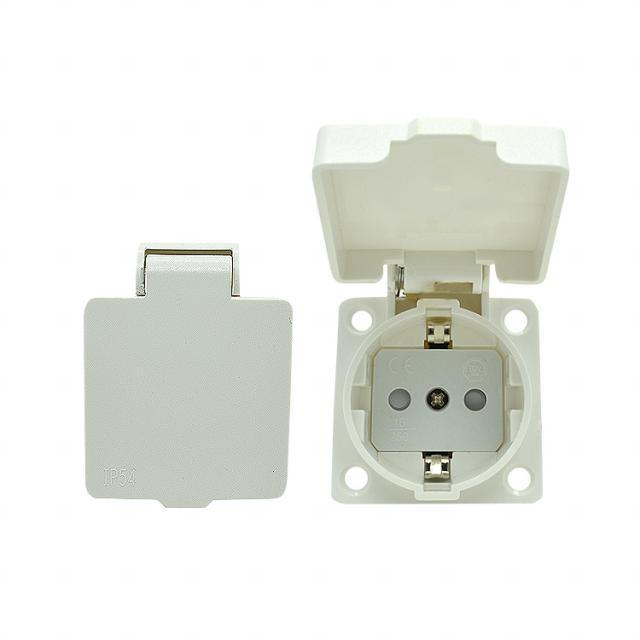typeb: (302, 90, 573, 533)
